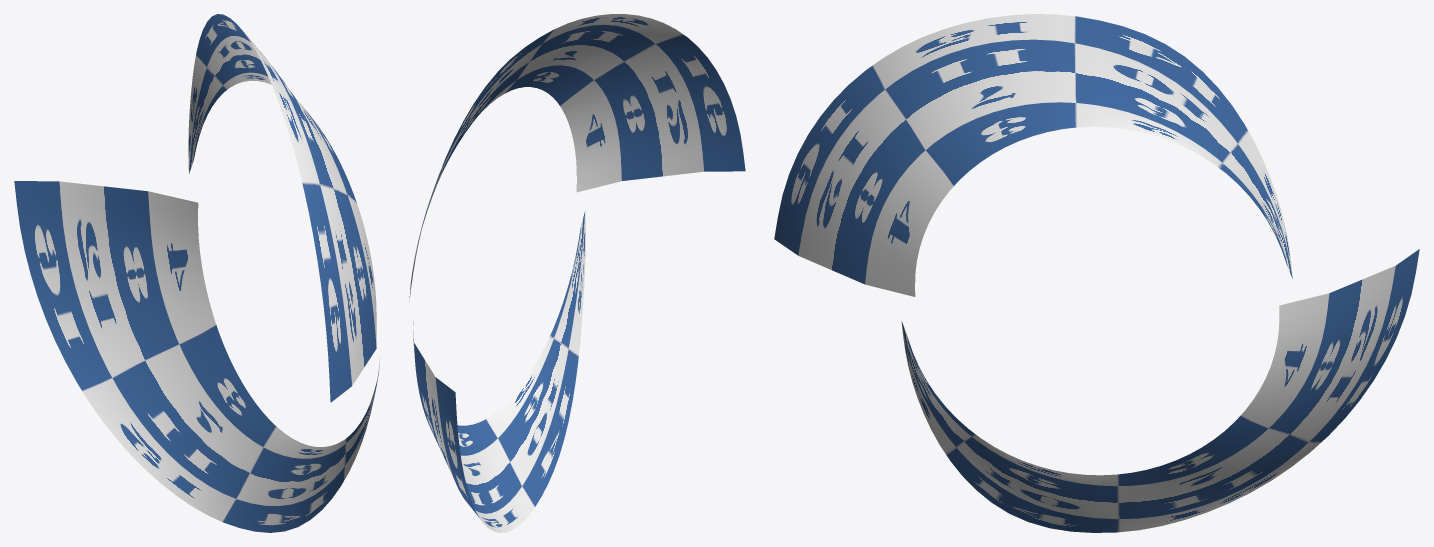
Rendered from Wind1.fbx.
3 views of the same model, side by side, from view 1: azimuth 30°, elevation 25°; view 2: azimuth 150°, elevation 25°; view 3: azimuth 270°, elevation 25° (orthographic). The views are drawn at different scales.
Parts seen in each view (by area): view 1: SM_e_Cmn_Wind001; view 2: SM_e_Cmn_Wind001; view 3: SM_e_Cmn_Wind001.
Boxes of the visible parts, x1,y1,x2,y2 form: SM_e_Cmn_Wind001: (14,14,380,532); SM_e_Cmn_Wind001: (409,14,745,532); SM_e_Cmn_Wind001: (774,14,1419,532).
Bounding box in the file's own units: 23.31 × 97.84 × 111.
